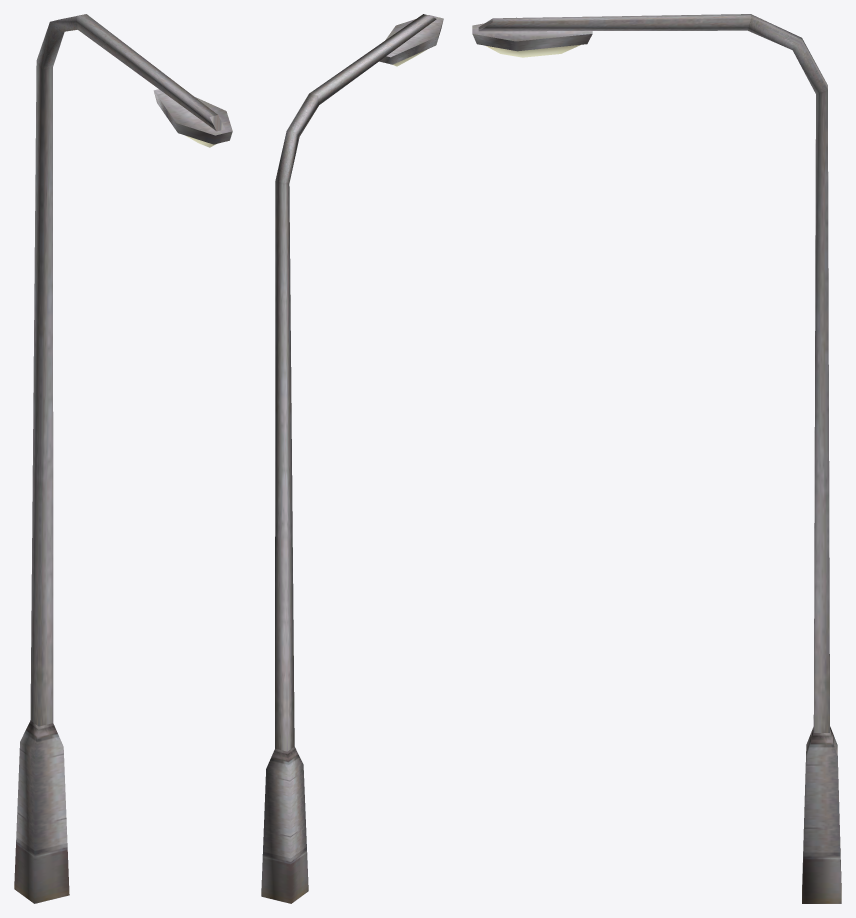
Rendered from M2_Lampost_On.glb.
3 views of the same model, side by side, from view 1: azimuth 30°, elevation 25°; view 2: azimuth 150°, elevation 25°; view 3: azimuth 270°, elevation 25° (orthographic). The views are drawn at different scales.
Visible parts, largest first — view 1: M2_LAMPOST_ON; view 2: M2_LAMPOST_ON; view 3: M2_LAMPOST_ON.
Part boxes in pixels (x1,y1,x2,y2): M2_LAMPOST_ON: (14, 14, 232, 903); M2_LAMPOST_ON: (261, 14, 443, 903); M2_LAMPOST_ON: (472, 14, 841, 903).
Size of the model in its own units: 0.355 by 6.14 by 2.33.
Materials: 1 (1 with a texture image).
